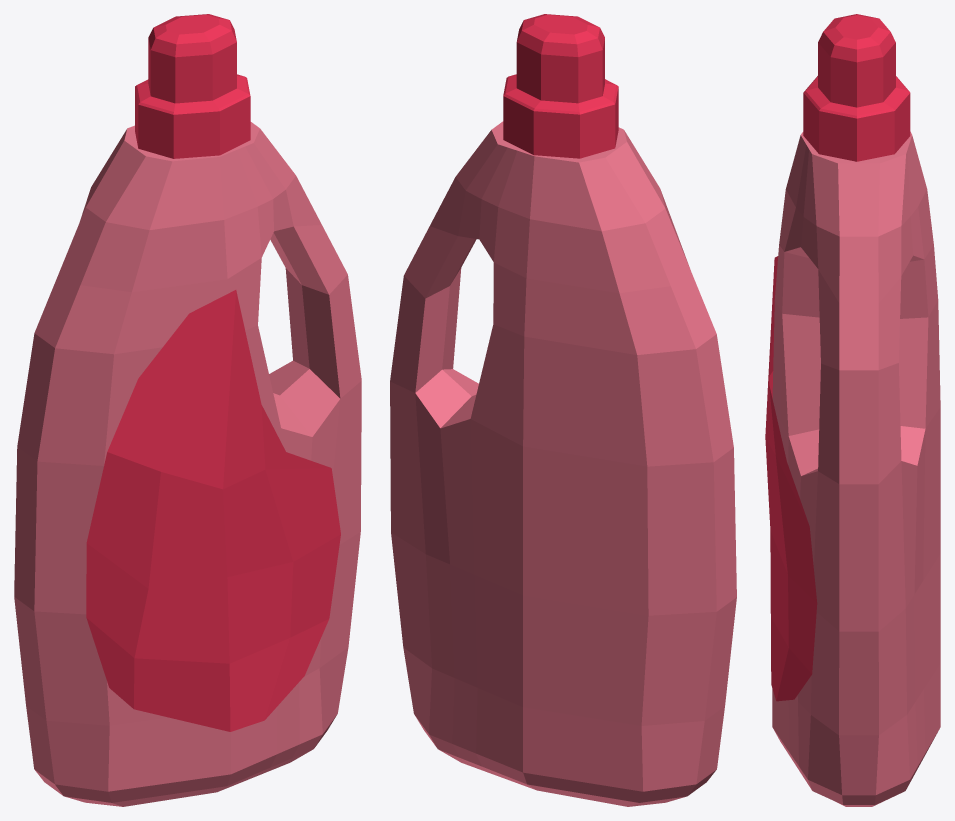
File: Ma_Detergent_Big_1.fbx
The picture shows the model from 3 angles, left to right: view 1: azimuth 30°, elevation 25°; view 2: azimuth 150°, elevation 25°; view 3: azimuth 270°, elevation 25°; orthographic projection. The views are drawn at different scales.
Visible parts, largest first — view 1: Ma_Detergent_Big_1; view 2: Ma_Detergent_Big_1; view 3: Ma_Detergent_Big_1.
Part boxes in pixels (<box>): Ma_Detergent_Big_1: <box>14,14,361,806</box>; Ma_Detergent_Big_1: <box>390,14,736,806</box>; Ma_Detergent_Big_1: <box>765,14,940,806</box>.
Size of the model in its own units: 158 by 74.65 by 343.
